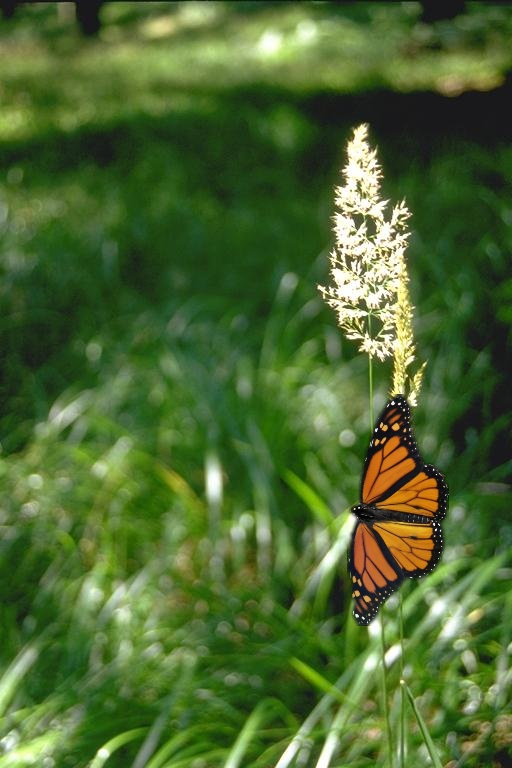danaus_plexippus: (347, 399, 449, 631)
